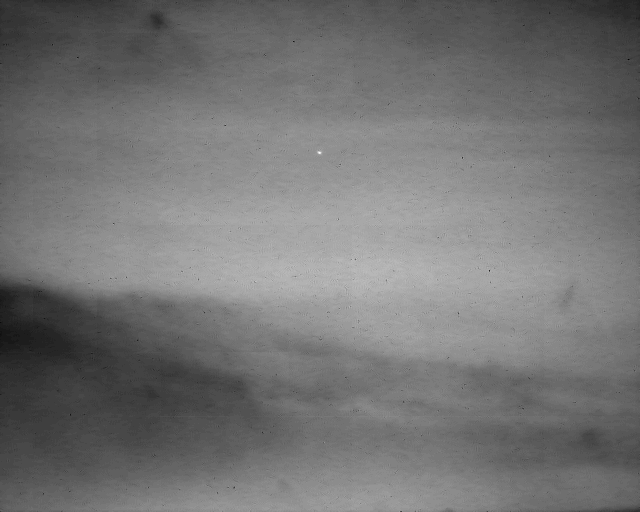Target: (318, 151, 324, 156)
